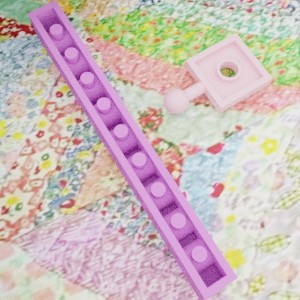lego: (27, 0, 238, 300), (163, 33, 272, 114)
